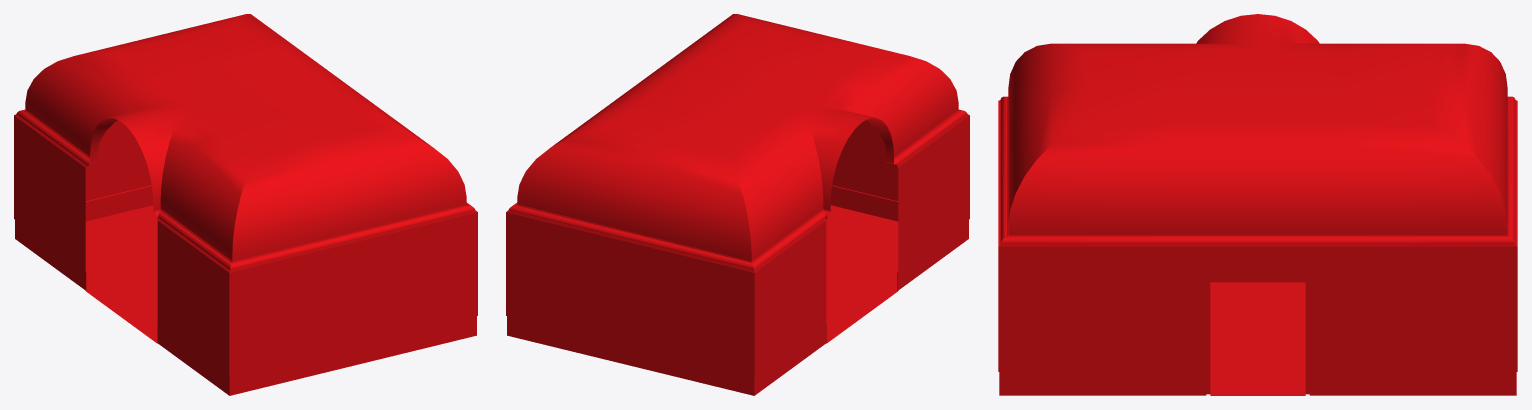
Rendered from Arena4.fbx.
3 views of the same model, side by side, from view 1: azimuth 30°, elevation 25°; view 2: azimuth 150°, elevation 25°; view 3: azimuth 270°, elevation 25° (orthographic). The views are drawn at different scales.
Parts seen in each view (by area): view 1: Grande salle intermediaire; view 2: Grande salle intermediaire; view 3: Grande salle intermediaire.
Part boxes in pixels (box(x1,y1,x2,y2)): Grande salle intermediaire: box(14, 14, 477, 395); Grande salle intermediaire: box(506, 14, 969, 395); Grande salle intermediaire: box(998, 14, 1517, 395).
Bounding box in the file's own units: 1600 × 1202 × 2400.
